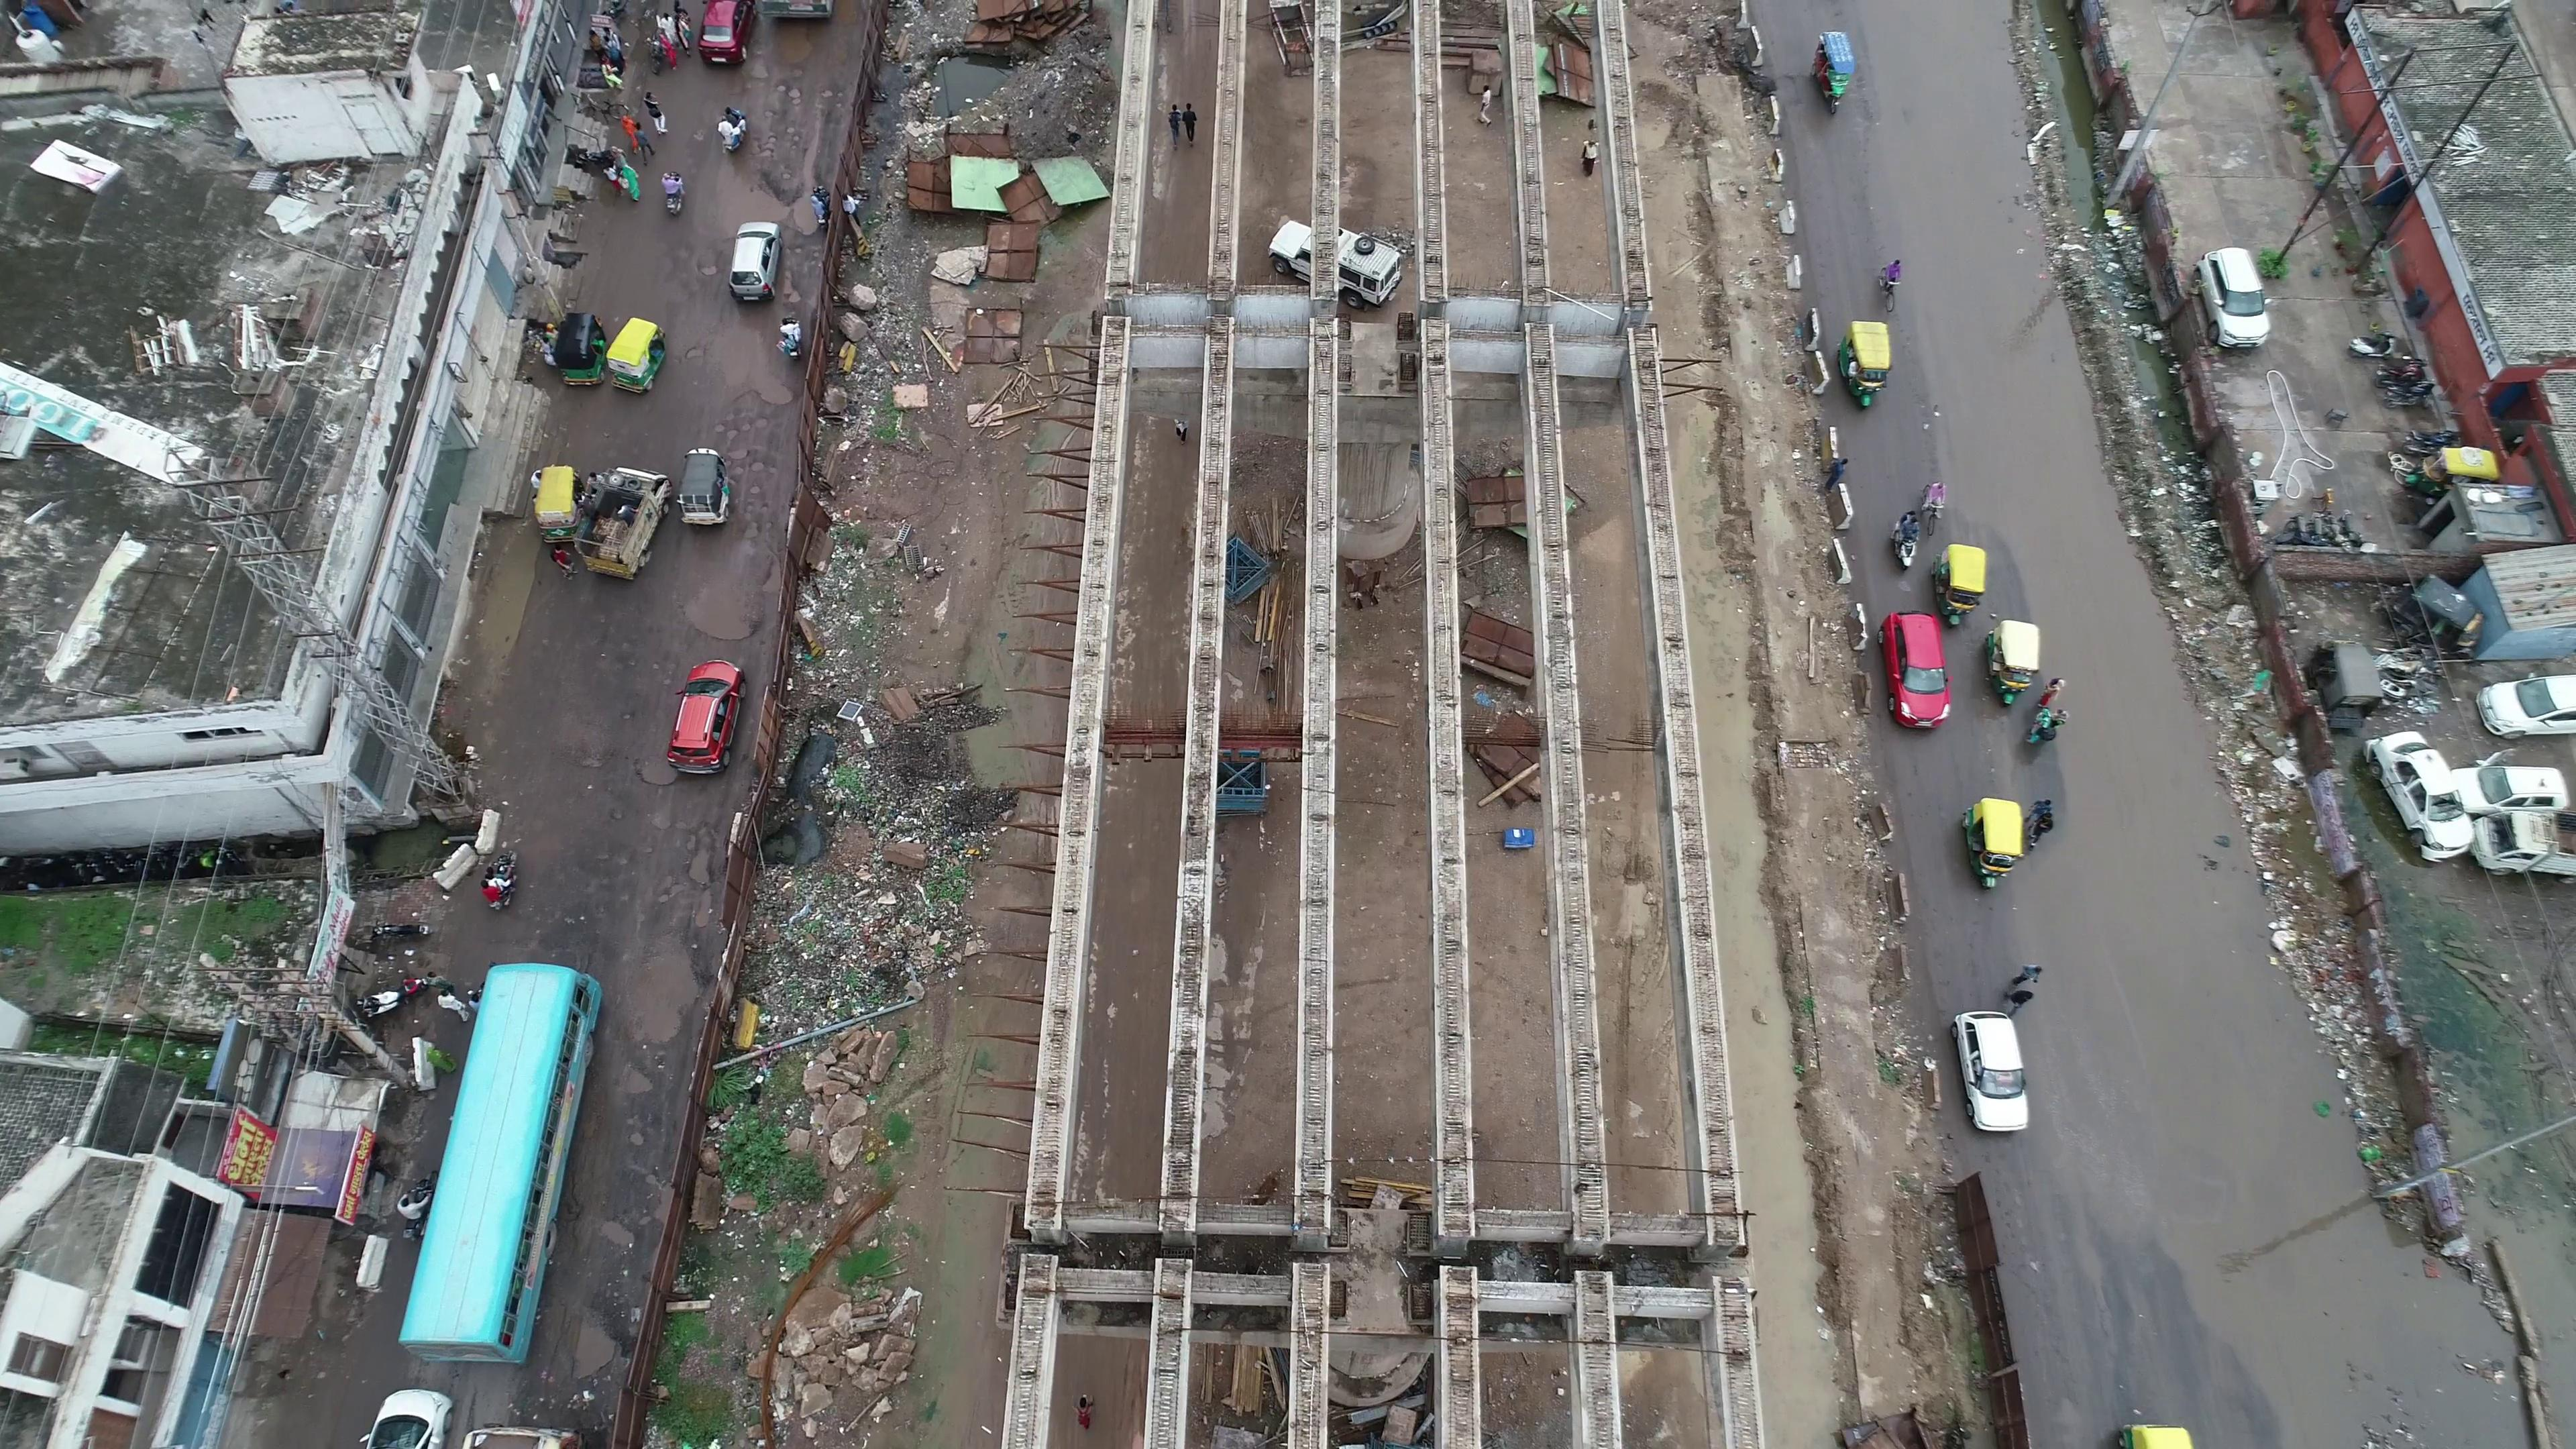Potholes: (1916, 147, 2082, 497), (2045, 556, 2192, 874), (743, 42, 833, 179), (628, 789, 713, 925), (722, 382, 786, 533)
